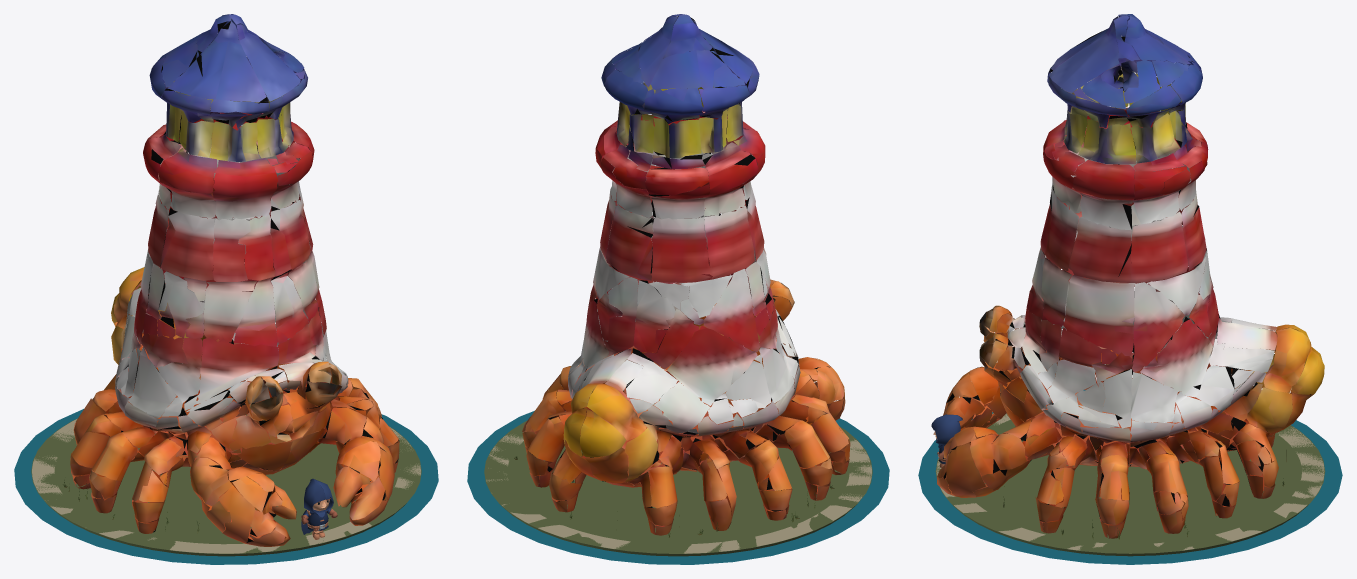
The picture shows the model from 3 angles, left to right: view 1: azimuth 30°, elevation 25°; view 2: azimuth 150°, elevation 25°; view 3: azimuth 270°, elevation 25°; orthographic projection.
Parts seen in each view (by area): view 1: Conserved distant lighthouse, Distant coastal scenery; view 2: Conserved distant lighthouse, Distant coastal scenery; view 3: Conserved distant lighthouse, Distant coastal scenery.
Part boxes in pixels (left/top/right/bottom): Conserved distant lighthouse: left=70, top=14, right=399, bottom=546; Distant coastal scenery: left=14, top=386, right=438, bottom=564; Conserved distant lighthouse: left=522, top=14, right=850, bottom=535; Distant coastal scenery: left=467, top=390, right=889, bottom=564; Conserved distant lighthouse: left=937, top=14, right=1324, bottom=538; Distant coastal scenery: left=918, top=390, right=1342, bottom=564.
Size of the model in its own units: 11.72 by 14.1 by 11.72.
2 materials, 2 textured.
